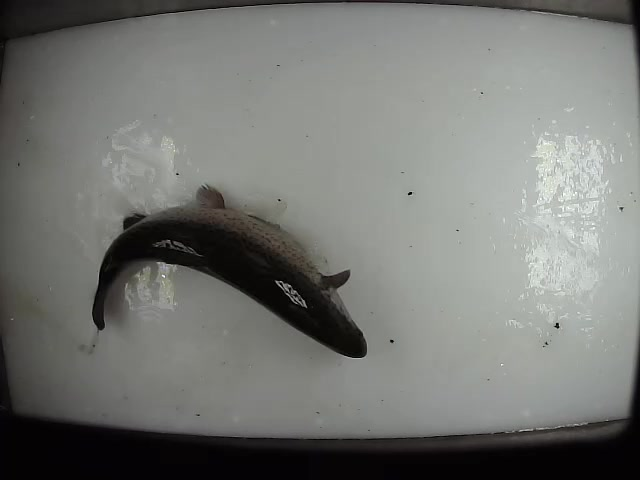fish: (89, 183, 368, 359)
